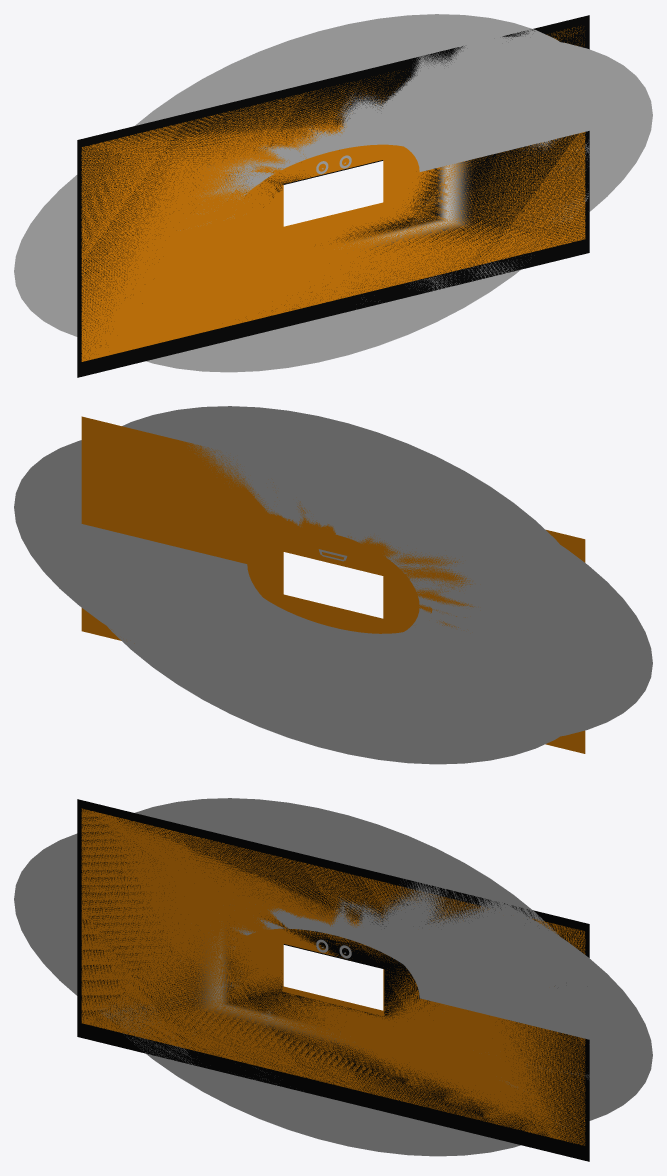
File: pref_GModPage_Score.fbx
3 renders of one model, top to bottom at view 1: azimuth 30°, elevation 25°; view 2: azimuth 150°, elevation 25°; view 3: azimuth 330°, elevation 25°, orthographic.
Visible parts, largest first — view 1: biankuang3 (×2), biankuang2, ci; view 2: biankuang2, ci, biankuang3; view 3: biankuang3 (×2), biankuang2, ci.
Boxes of the visible parts, left/top/right/bottom form: biankuang3 (×2): left=77, top=15, right=589, bottom=377; biankuang2: left=14, top=36, right=652, bottom=349; ci: left=55, top=14, right=611, bottom=372; biankuang2: left=14, top=428, right=652, bottom=741; ci: left=55, top=406, right=611, bottom=764; biankuang3: left=81, top=416, right=585, bottom=753; biankuang3 (×2): left=77, top=799, right=589, bottom=1161; biankuang2: left=14, top=820, right=652, bottom=1133; ci: left=56, top=798, right=611, bottom=1156.
Size of the model in its own units: 6851 by 3393 by 0.5813.
